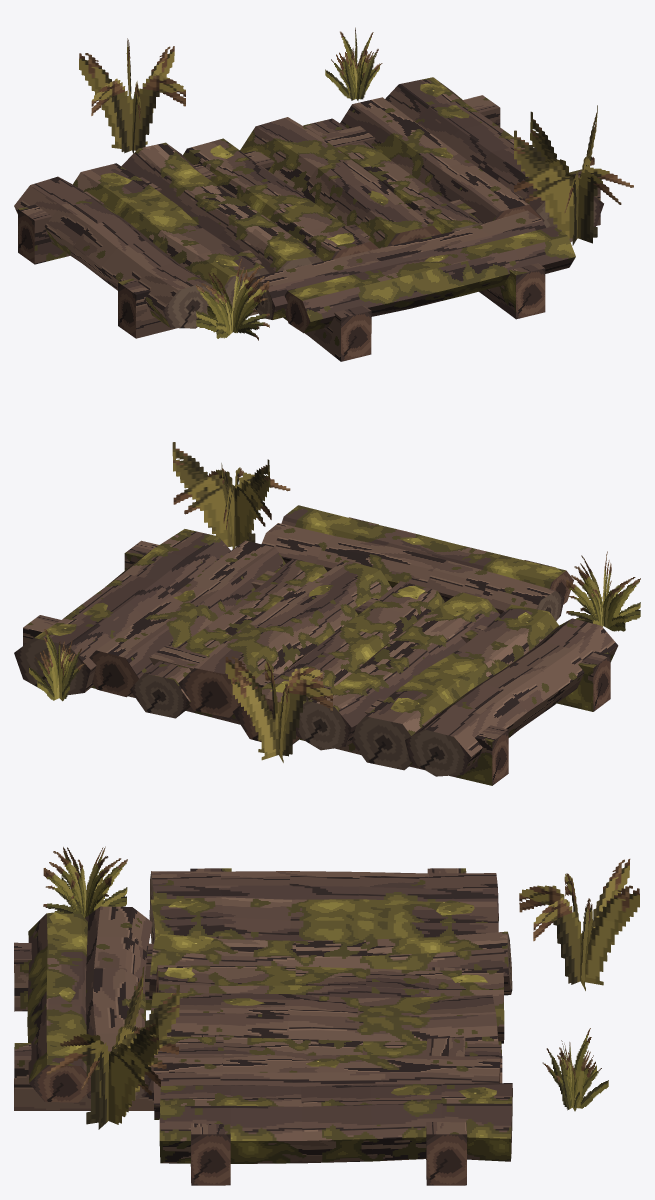
Rendered from SM_SW13_CorduroyTJunction.fbx.
3 views of the same model, one above another, from view 1: azimuth 30°, elevation 25°; view 2: azimuth 150°, elevation 25°; view 3: azimuth 270°, elevation 25° (orthographic). The views are drawn at different scales.
Visible parts, largest first — view 1: SW13c_Bark, SW13c_BarkMossy, SW13c_Plants, SW13c_Props, SW13c_Moss; view 2: SW13c_Bark, SW13c_Props, SW13c_Plants, SW13c_BarkMossy, SW13c_Moss; view 3: SW13c_Bark, SW13c_BarkMossy, SW13c_Plants, SW13c_Props, SW13c_Moss.
Boxes of the visible parts, bbox=[...] form: SW13c_Bark: bbox=[14, 77, 601, 361]; SW13c_BarkMossy: bbox=[73, 163, 575, 332]; SW13c_Plants: bbox=[79, 27, 633, 340]; SW13c_Props: bbox=[18, 196, 603, 361]; SW13c_Moss: bbox=[100, 83, 469, 296]; SW13c_Bark: bbox=[23, 517, 618, 785]; SW13c_Props: bbox=[14, 570, 610, 785]; SW13c_Plants: bbox=[29, 442, 640, 762]; SW13c_BarkMossy: bbox=[281, 505, 565, 768]; SW13c_Moss: bbox=[51, 537, 561, 712]; SW13c_Bark: bbox=[14, 868, 512, 1182]; SW13c_BarkMossy: bbox=[27, 897, 498, 1082]; SW13c_Plants: bbox=[43, 846, 639, 1129]; SW13c_Props: bbox=[14, 871, 512, 1185]; SW13c_Moss: bbox=[49, 899, 496, 1098].
Bounding box in the file's own units: 4 × 1.28 × 3.99.
